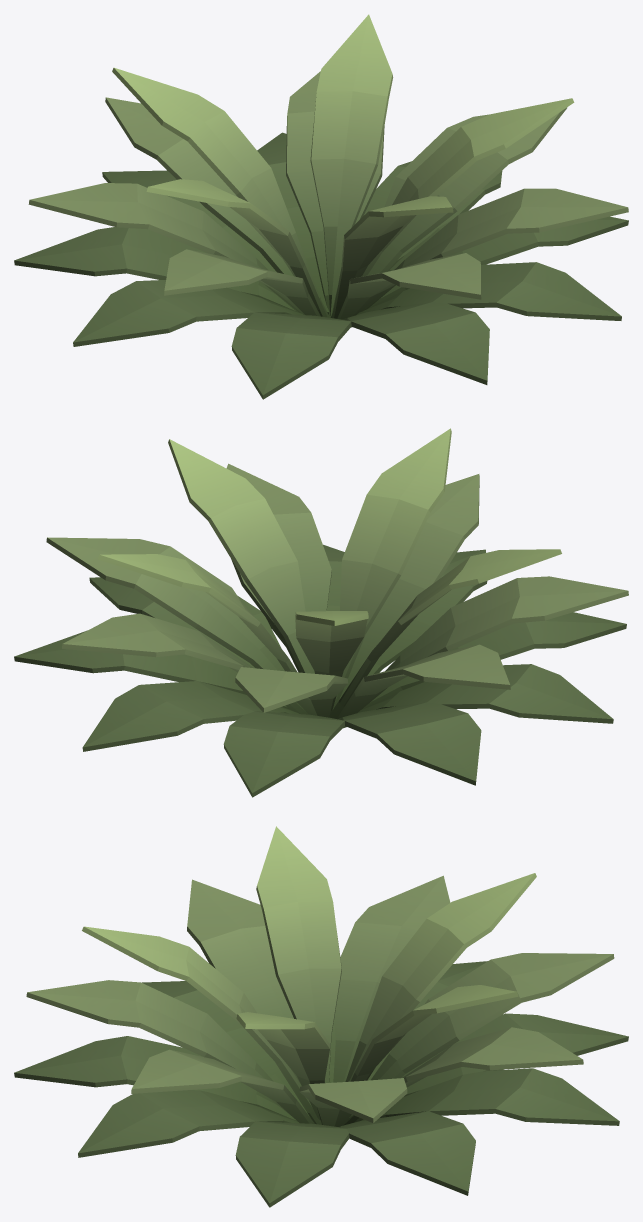
Rendered from desert_plant1.fbx.
3 renders of one model, top to bottom at view 1: azimuth 30°, elevation 25°; view 2: azimuth 150°, elevation 25°; view 3: azimuth 270°, elevation 25°, orthographic.
Parts seen in each view (by area): view 1: lisc.004; view 2: lisc.004; view 3: lisc.004.
Part boxes in pixels (<box>): lisc.004: <box>14,14,628,399</box>; lisc.004: <box>14,428,628,797</box>; lisc.004: <box>14,826,628,1207</box>.
Size of the model in its own units: 223 by 85.81 by 221.
